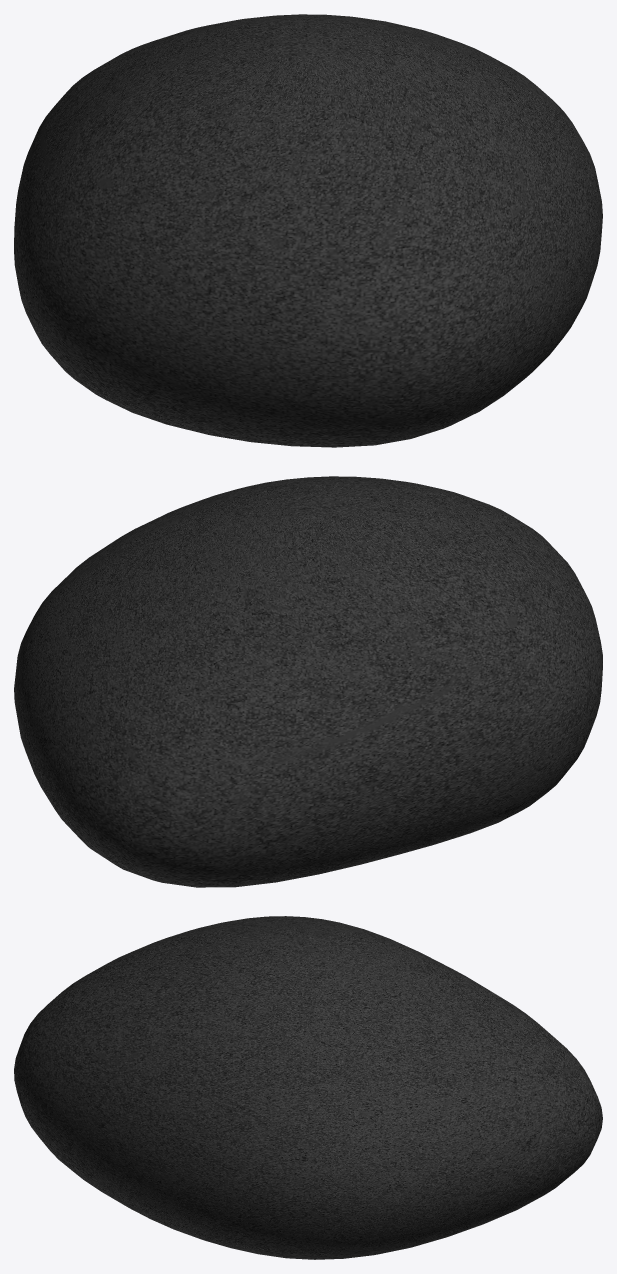
Rendered from singlerocktutorial.fbx.
3 renders of one model, top to bottom at view 1: azimuth 30°, elevation 25°; view 2: azimuth 150°, elevation 25°; view 3: azimuth 270°, elevation 25°, orthographic. The views are drawn at different scales.
Parts seen in each view (by area): view 1: stone; view 2: stone; view 3: stone.
Part boxes in pixels (box(x1,y1,x2,y2)): stone: box(14, 14, 602, 447); stone: box(14, 476, 602, 887); stone: box(14, 916, 602, 1259).
Size of the model in its own units: 1.79 by 0.9766 by 2.13.
Materials: 1 (1 with a texture image).
